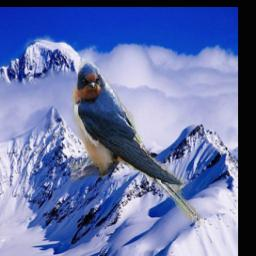Swallow: (72, 60, 202, 225)
